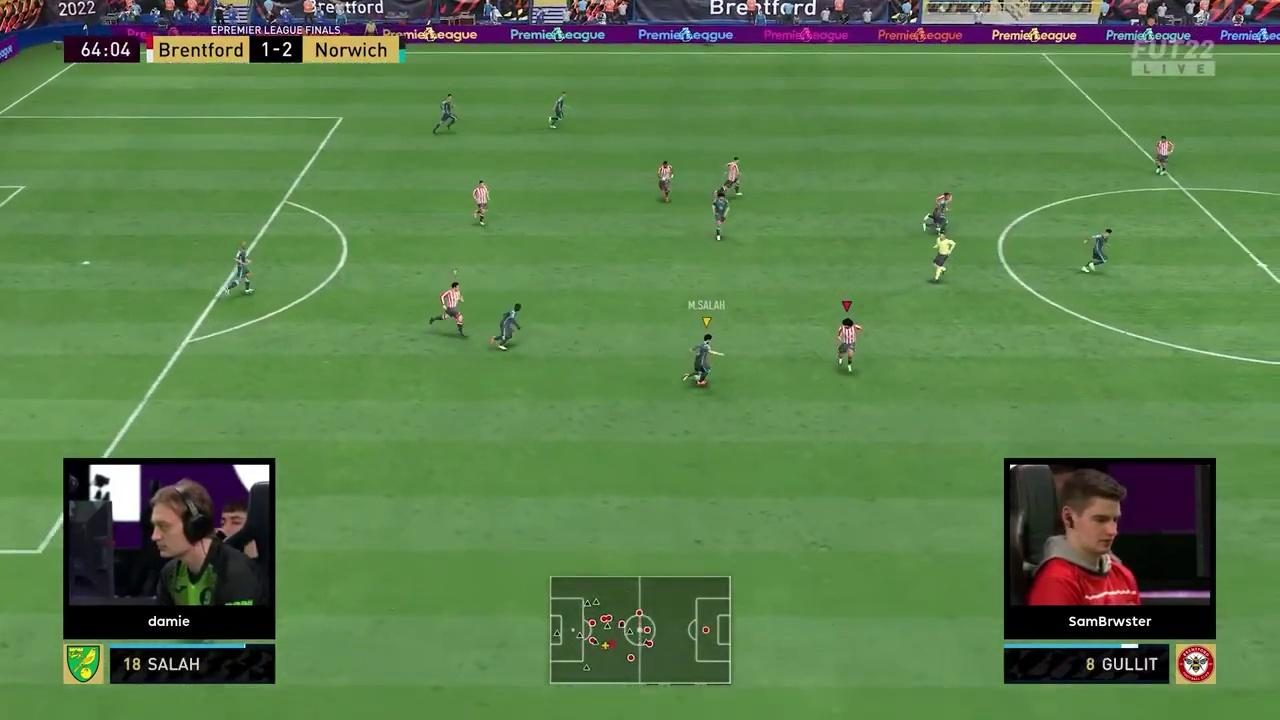scoreboard: (148, 33, 406, 63)
timestamp: (64, 38, 139, 63)
